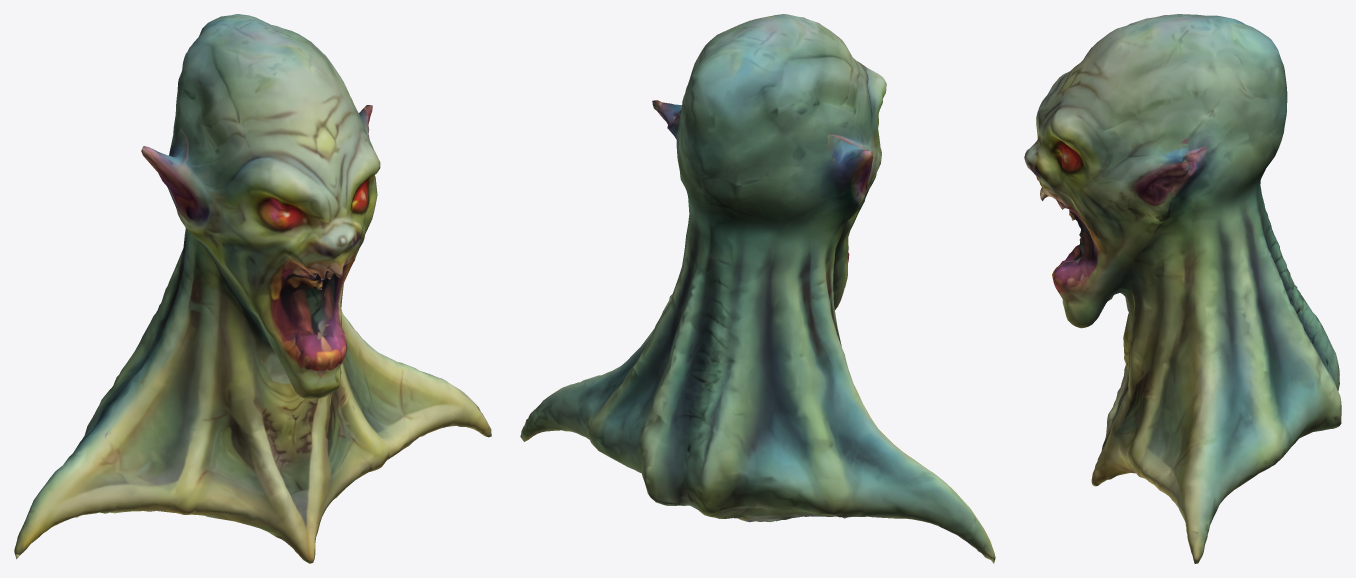
The model's file is humanoid_terrifying_c_1004163438_refine.fbx.
3 renders of one model, left to right at view 1: azimuth 30°, elevation 25°; view 2: azimuth 150°, elevation 25°; view 3: azimuth 270°, elevation 25°, orthographic. The views are drawn at different scales.
Visible parts, largest first — view 1: Mesh_0; view 2: Mesh_0; view 3: Mesh_0.
Boxes of the visible parts, x1,y1,x2,y2 form: Mesh_0: (14, 14, 491, 563); Mesh_0: (520, 14, 995, 563); Mesh_0: (1024, 14, 1341, 563).
Size of the model in its own units: 120 by 120 by 74.23.
Materials: 1 (1 with a texture image).
